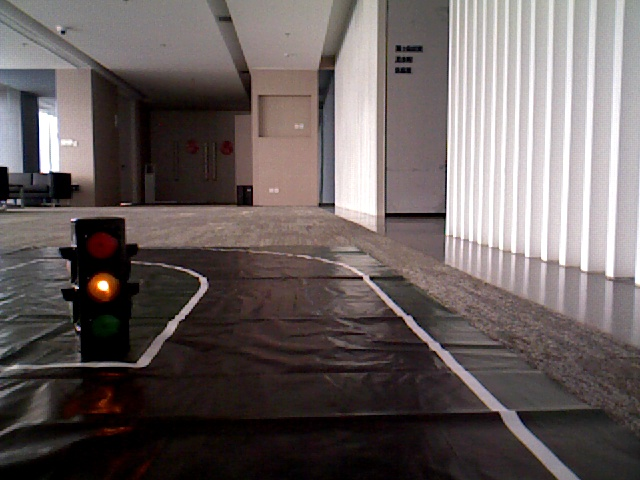yellow: (75, 220, 125, 334)
